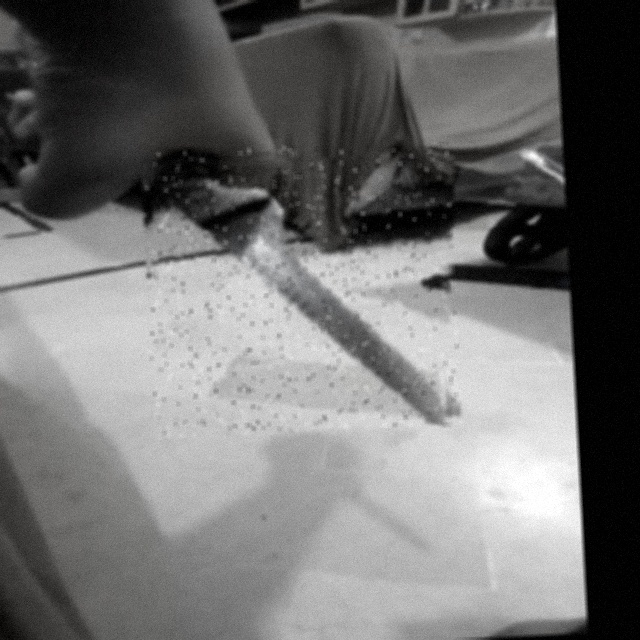Sharp-Object: (140, 138, 463, 438)
